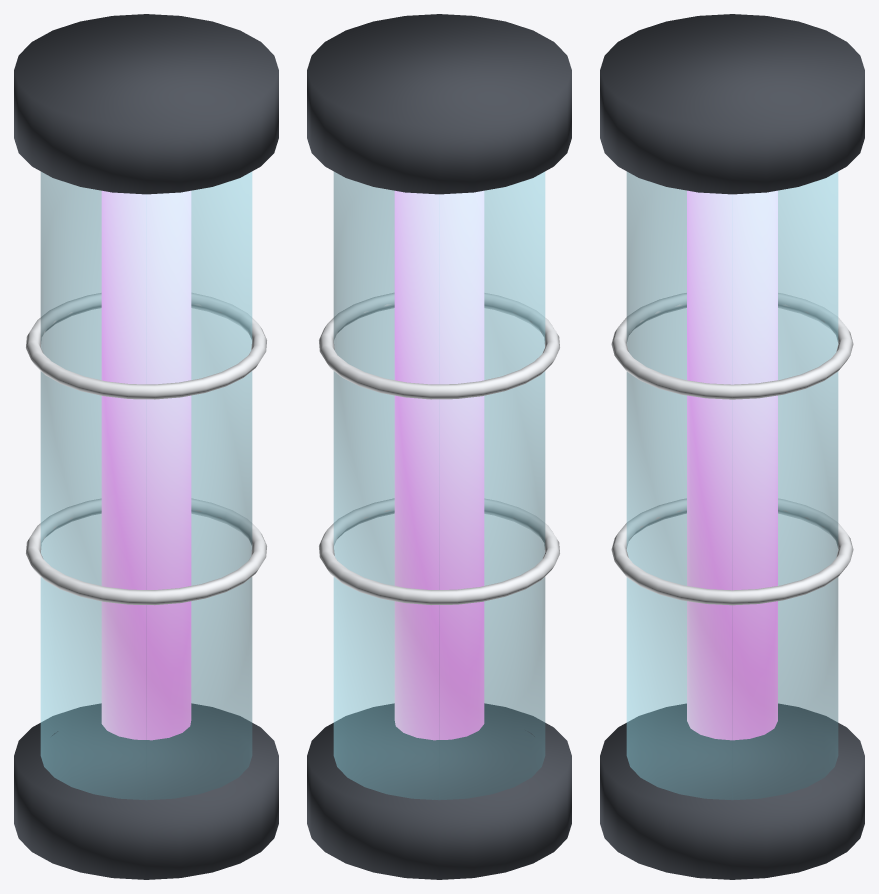
Rendered from cryo_pod_stasis_tube.glb.
3 renders of one model, left to right at view 1: azimuth 30°, elevation 25°; view 2: azimuth 150°, elevation 25°; view 3: azimuth 270°, elevation 25°, orthographic.
Visible parts, largest first — view 1: GD_cryo_pod_stasis_tube__m1, GD_cryo_pod_stasis_tube__m0, GD_cryo_pod_stasis_tube__m2, GD_cryo_pod_stasis_tube__m3; view 2: GD_cryo_pod_stasis_tube__m1, GD_cryo_pod_stasis_tube__m0, GD_cryo_pod_stasis_tube__m2, GD_cryo_pod_stasis_tube__m3; view 3: GD_cryo_pod_stasis_tube__m1, GD_cryo_pod_stasis_tube__m0, GD_cryo_pod_stasis_tube__m2, GD_cryo_pod_stasis_tube__m3.
Boxes of the visible parts, bbox=[...] form: GD_cryo_pod_stasis_tube__m1: bbox=[40, 172, 252, 799]; GD_cryo_pod_stasis_tube__m0: bbox=[14, 14, 278, 879]; GD_cryo_pod_stasis_tube__m2: bbox=[101, 190, 191, 740]; GD_cryo_pod_stasis_tube__m3: bbox=[26, 293, 266, 605]; GD_cryo_pod_stasis_tube__m1: bbox=[333, 172, 545, 799]; GD_cryo_pod_stasis_tube__m0: bbox=[307, 14, 571, 879]; GD_cryo_pod_stasis_tube__m2: bbox=[394, 190, 484, 740]; GD_cryo_pod_stasis_tube__m3: bbox=[319, 293, 559, 605]; GD_cryo_pod_stasis_tube__m1: bbox=[626, 172, 838, 799]; GD_cryo_pod_stasis_tube__m0: bbox=[600, 14, 864, 879]; GD_cryo_pod_stasis_tube__m2: bbox=[687, 190, 777, 740]; GD_cryo_pod_stasis_tube__m3: bbox=[611, 293, 853, 605].
Bounding box in the file's own units: 0.7 × 2.2 × 0.7.
